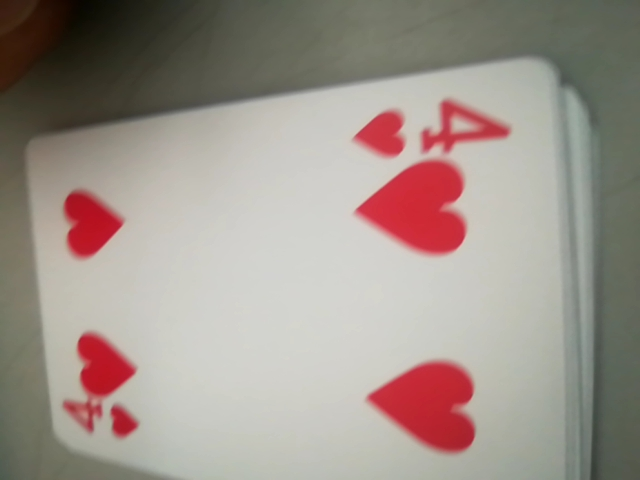hx 4: (348, 90, 521, 166), (52, 392, 143, 449)
